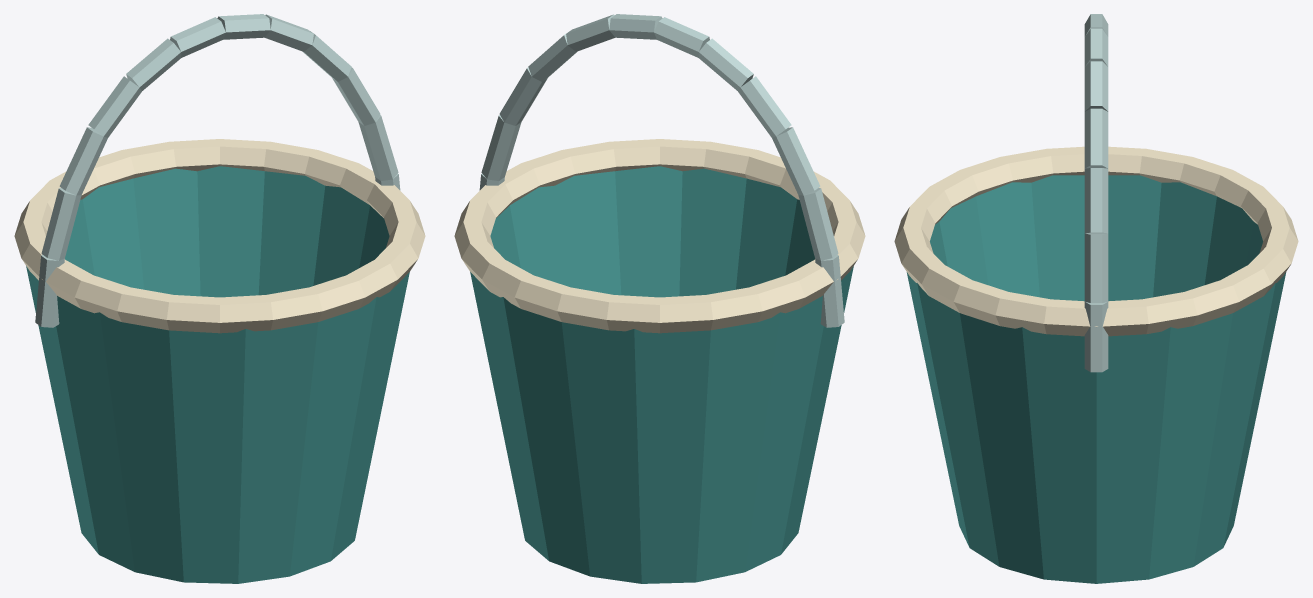
The model's file is bait_bucket_quiet_lake_fishing_22410.glb.
The picture shows the model from 3 angles, left to right: view 1: azimuth 30°, elevation 25°; view 2: azimuth 150°, elevation 25°; view 3: azimuth 270°, elevation 25°; orthographic projection.
Visible parts, largest first — view 1: teal, cream, silver; view 2: teal, cream, silver; view 3: teal, cream, silver.
Boxes of the visible parts, x1,y1,x2,y2 form: teal: (26,166,409,583); cream: (14,139,425,333); silver: (35,14,400,327); teal: (470,166,853,583); cream: (454,139,865,333); silver: (479,14,844,327); teal: (906,175,1286,583); cream: (894,146,1298,336); silver: (1084,14,1108,372).
Size of the model in its own units: 0.4207 by 0.5602 by 0.412.
